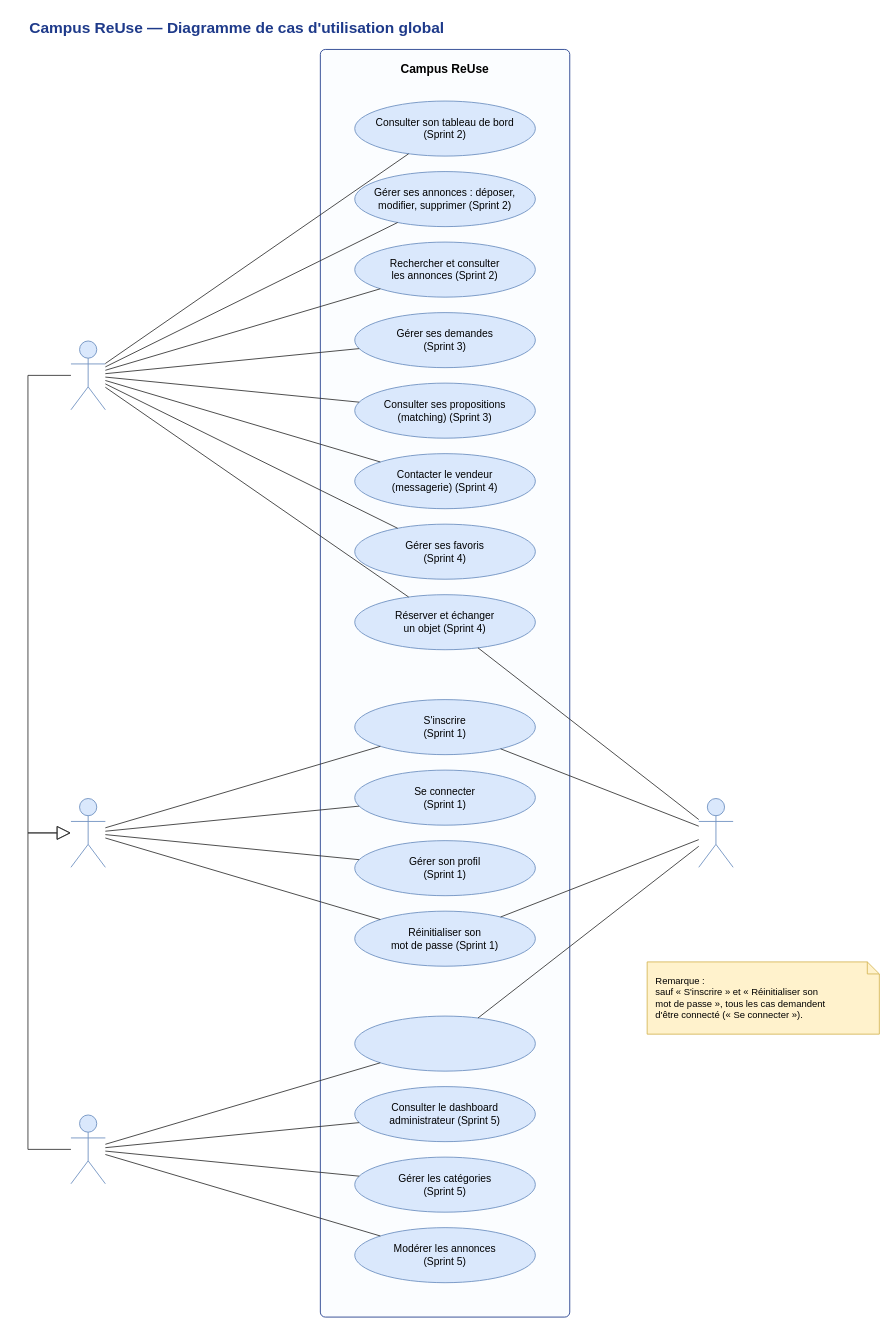
This 894x1332 diagram has some shape labels left out. Each missing label, with the centre of its shape:
Administrateur: the point at 87,1149
Gérer les utilisateurs : bloquer, débloquer, supprimer (Sprint 5): the point at 444,1043
Service e-mail: the point at 715,832
Utilisateur: the point at 87,832
Étudiant: the point at 87,375
